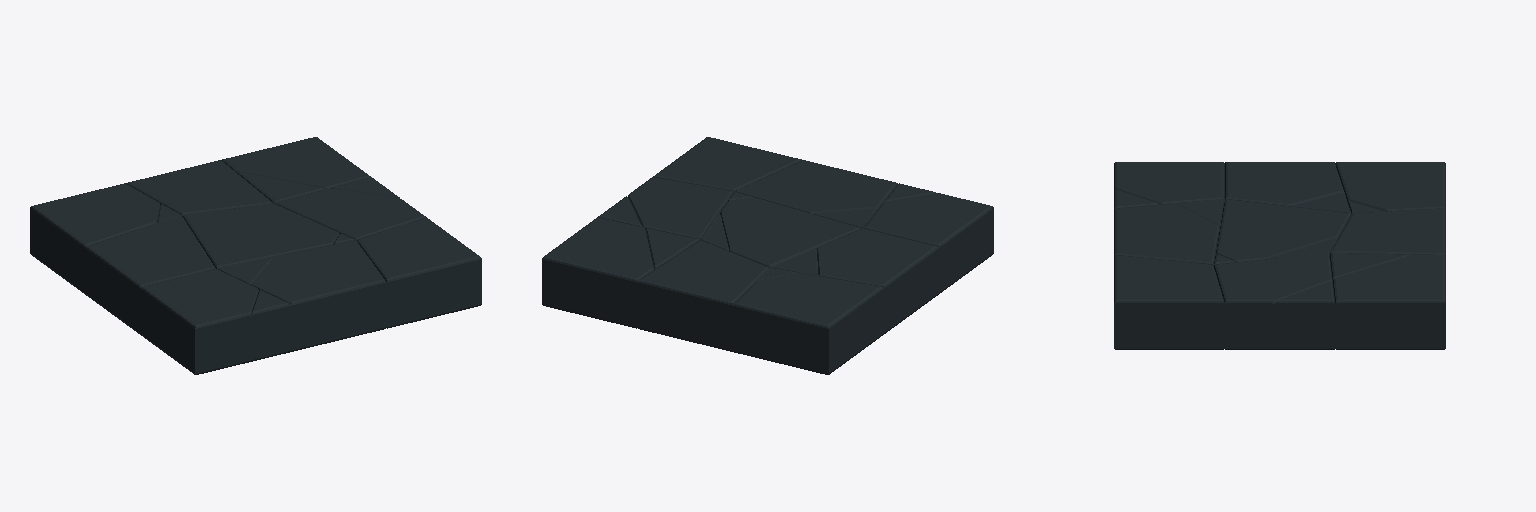
Rendered from tileBrickB_largeCrackedA.obj.
3 renders of one model, left to right at view 1: azimuth 30°, elevation 25°; view 2: azimuth 150°, elevation 25°; view 3: azimuth 270°, elevation 25°, orthographic.
Parts seen in each view (by area): view 1: tileBrickB_largeCrackedA_Cube.3230; view 2: tileBrickB_largeCrackedA_Cube.3230; view 3: tileBrickB_largeCrackedA_Cube.3230.
Part boxes in pixels (x1,y1,x2,y2): tileBrickB_largeCrackedA_Cube.3230: (30, 137, 481, 374); tileBrickB_largeCrackedA_Cube.3230: (542, 137, 993, 374); tileBrickB_largeCrackedA_Cube.3230: (1114, 162, 1445, 349).
Size of the model in its own units: 6 by 1 by 6.